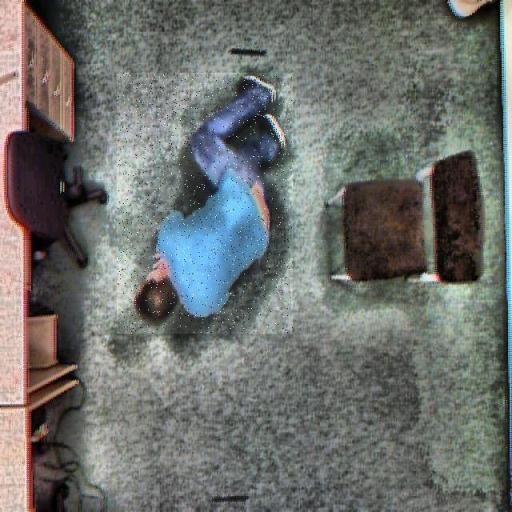Fall: (117, 73, 293, 334)
